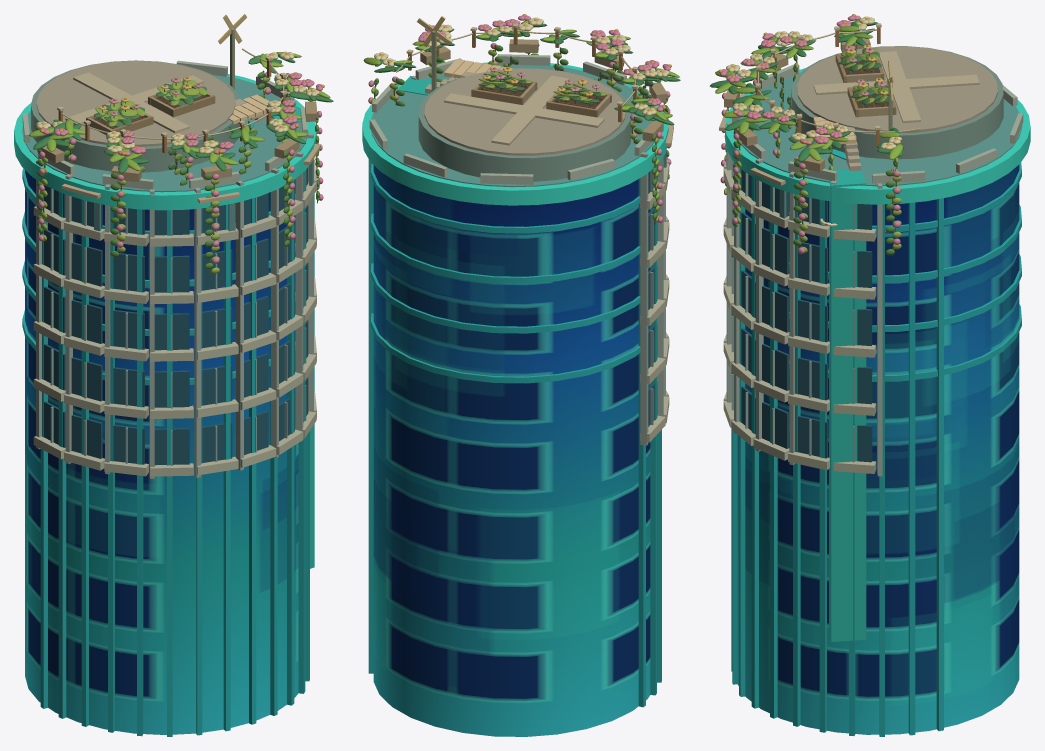
Rendered from unit_01.glb.
The picture shows the model from 3 angles, left to right: view 1: azimuth 30°, elevation 25°; view 2: azimuth 150°, elevation 25°; view 3: azimuth 270°, elevation 25°; orthographic projection.
Visible parts, largest first — view 1: unit_01; view 2: unit_01; view 3: unit_01.
Boxes of the visible parts, x1,y1,x2,y2 form: unit_01: [14, 14, 333, 736]; unit_01: [362, 14, 680, 736]; unit_01: [710, 14, 1030, 736].
Size of the model in its own units: 14.66 by 31.2 by 14.03.
Materials: 3 (1 with a texture image).
